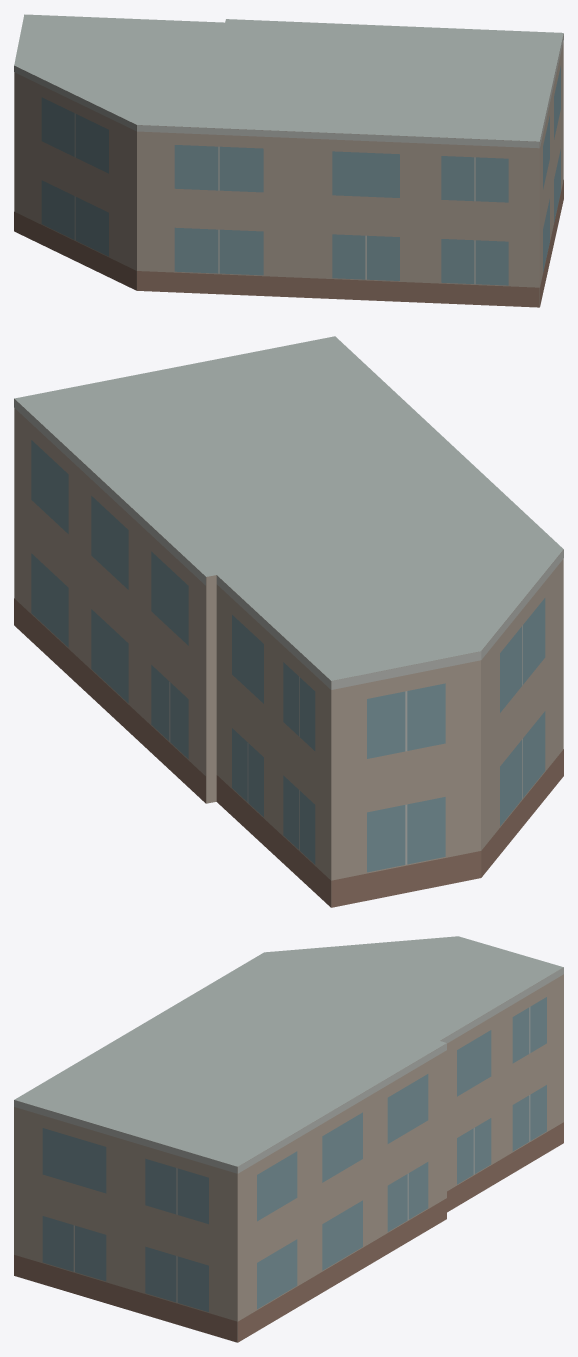
File: survey-upis-32756186.glb
The picture shows the model from 3 angles, top to bottom: view 1: azimuth 30°, elevation 25°; view 2: azimuth 150°, elevation 25°; view 3: azimuth 270°, elevation 25°; orthographic projection. The views are drawn at different scales.
Visible parts, largest first — view 1: survey-upis-32756186.tmp; view 2: survey-upis-32756186.tmp; view 3: survey-upis-32756186.tmp.
Boxes of the visible parts, box(x1,y1,x2,y2) form: survey-upis-32756186.tmp: box(14, 14, 563, 307); survey-upis-32756186.tmp: box(14, 336, 563, 907); survey-upis-32756186.tmp: box(14, 936, 563, 1342).
Size of the model in its own units: 17.16 by 6.1 by 17.29.
